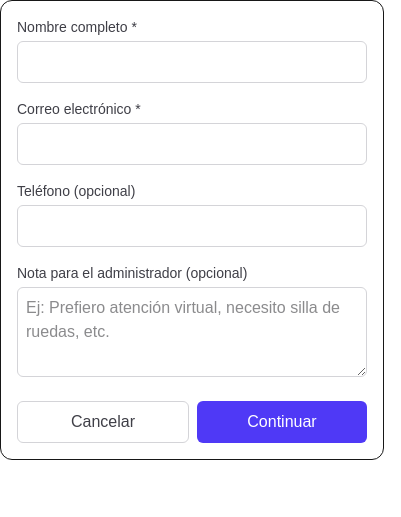
FormularioDatosPersonales › Escenario 5: Campos obligatorios incompletos impiden avanzar y muestran error
The image size is (401, 517).
Click the button "Continuar".
click(282, 422)  # box [197,401,367,443]
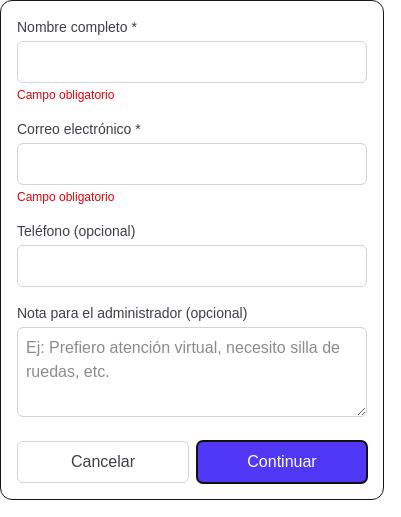
Result: the text "Campo obligatorio" is shown 2 times at [17,88,114,102]; [17,190,114,204]
